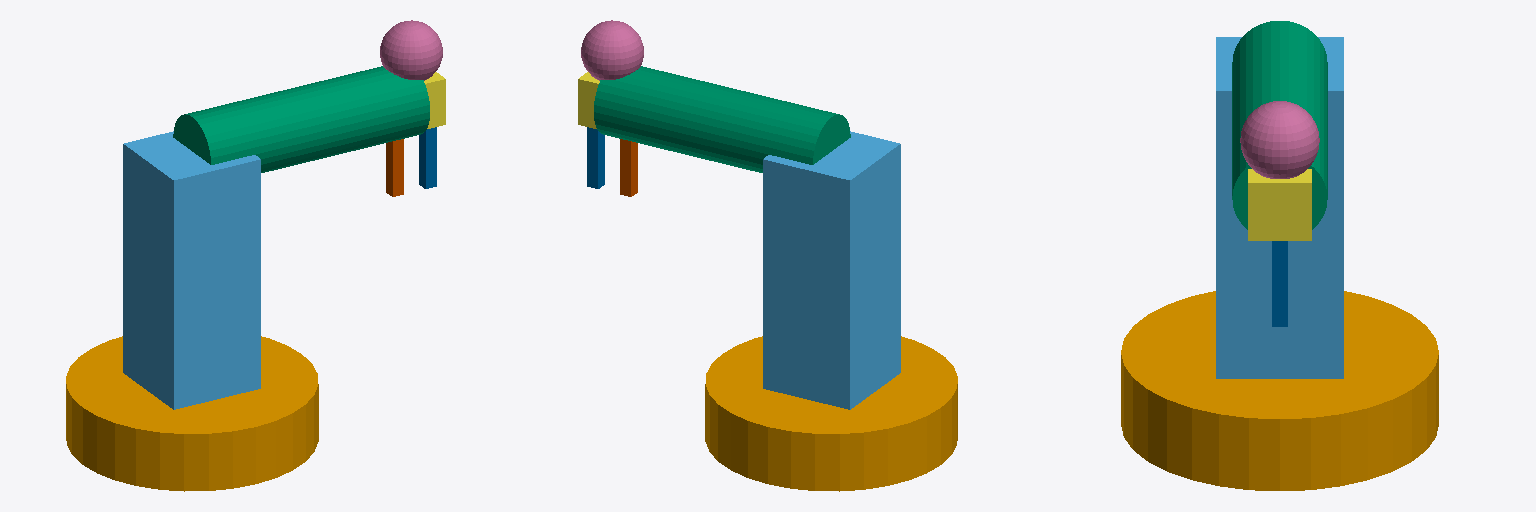
The robot description file, URDF, robot "simple_robot":
<?xml version="1.0"?>
<robot name="simple_robot">

  <!-- Base Link -->
  <link name="base_link">
    <visual>
      <origin xyz="0 0 0" rpy="0 0 0"/>
      <geometry>
        <cylinder radius="0.1" length="0.05"/>
      </geometry>
    </visual>
  </link>

  <!-- Tower Link -->
  <link name="tower_link">
    <visual>
      <origin xyz="0 0 0.1" rpy="0 0 0"/>
      <geometry>
        <box size="0.08 0.08 0.2"/>
      </geometry>
    </visual>
  </link>

  <joint name="base_to_tower" type="fixed">
    <parent link="base_link"/>
    <child link="tower_link"/>
    <origin xyz="0 0 0.025" rpy="0 0 0"/>
  </joint>

  <!-- Arm Link -->
  <link name="arm_link">
    <visual>
      <origin xyz="0.1 0 0" rpy="0 1.5708 0"/>
      <geometry>
        <cylinder radius="0.03" length="0.2"/>
      </geometry>
    </visual>
  </link>

  <joint name="tower_to_arm" type="revolute">
    <parent link="tower_link"/>
    <child link="arm_link"/>
    <origin xyz="0 0 0.2" rpy="0 0 0"/>
    <axis xyz="0 0 1"/>
    <limit lower="-3.14" upper="3.14" effort="10" velocity="1"/>
  </joint>

  <!-- Gripper Base -->
  <link name="gripper_base">
    <visual>
      <origin xyz="0 0 0" rpy="0 0 0"/>
      <geometry>
        <box size="0.04 0.04 0.04"/>
      </geometry>
    </visual>
  </link>

  <joint name="arm_to_gripper" type="fixed">
    <parent link="arm_link"/>
    <child link="gripper_base"/>
    <origin xyz="0.2 0 0" rpy="0 0 0"/>
  </joint>

  <!-- Gripper Finger 1 -->
  <link name="finger_1">
    <visual>
      <origin xyz="0 0 -0.03" rpy="0 0 0"/>
      <geometry>
        <box size="0.01 0.01 0.06"/>
      </geometry>
    </visual>
  </link>

  <joint name="gripper_to_finger_1" type="prismatic">
    <parent link="gripper_base"/>
    <child link="finger_1"/>
    <origin xyz="0.015 0 -0.02" rpy="0 0 0"/>
    <axis xyz="1 0 0"/>
    <limit lower="0" upper="0.02" effort="5" velocity="0.1"/>
  </joint>

  <!-- Gripper Finger 2 -->
  <link name="finger_2">
    <visual>
      <origin xyz="0 0 -0.03" rpy="0 0 0"/>
      <geometry>
        <box size="0.01 0.01 0.06"/>
      </geometry>
    </visual>
  </link>

  <joint name="gripper_to_finger_2" type="prismatic">
    <parent link="gripper_base"/>
    <child link="finger_2"/>
    <origin xyz="-0.015 0 -0.02" rpy="0 0 0"/>
    <axis xyz="-1 0 0"/>
    <limit lower="0" upper="0.02" effort="5" velocity="0.1"/>
  </joint>

  <!-- Sensor Head -->
  <link name="sensor_head">
    <visual>
      <origin xyz="0 0 0" rpy="0 0 0"/>
      <geometry>
        <sphere radius="0.025"/>
      </geometry>
    </visual>
  </link>

  <joint name="gripper_to_sensor" type="fixed">
    <parent link="gripper_base"/>
    <child link="sensor_head"/>
    <origin xyz="0 0 0.04" rpy="0 0 0"/>
  </joint>

</robot>

--- Render facts (derived) ---
The picture shows the robot from 3 angles, left to right: view 1: azimuth 30°, elevation 25°; view 2: azimuth 150°, elevation 25°; view 3: azimuth 270°, elevation 25°; orthographic projection.
Model simple_robot with 7 links and 6 joints (1 revolute, 2 prismatic, 3 fixed), rooted at base_link, posed every joint at zero.
Links seen in each view (by area): view 1: tower_link, base_link, arm_link, sensor_head, finger_1, finger_2, gripper_base; view 2: tower_link, base_link, arm_link, sensor_head, finger_1, finger_2, gripper_base; view 3: base_link, tower_link, arm_link, sensor_head, gripper_base, finger_1.
Link boxes in pixels (x1,y1,x2,y2): tower_link: (123,131,260,409); base_link: (66,336,318,491); arm_link: (173,66,429,172); sensor_head: (380,20,442,80); finger_1: (419,127,436,188); finger_2: (386,139,403,196); gripper_base: (424,72,445,128); tower_link: (763,131,900,409); base_link: (705,336,957,491); arm_link: (594,66,850,172); sensor_head: (581,20,643,80); finger_1: (587,127,604,188); finger_2: (620,139,637,196); gripper_base: (578,72,599,128); base_link: (1121,291,1438,490); tower_link: (1216,37,1343,378); arm_link: (1232,21,1327,229); sensor_head: (1240,101,1319,178); gripper_base: (1248,169,1311,240); finger_1: (1272,241,1287,326).
Size in the robot's own frame: 0.325 by 0.2 by 0.315 metres.
Geometry: primitives only (box / cylinder / sphere), no mesh files.
